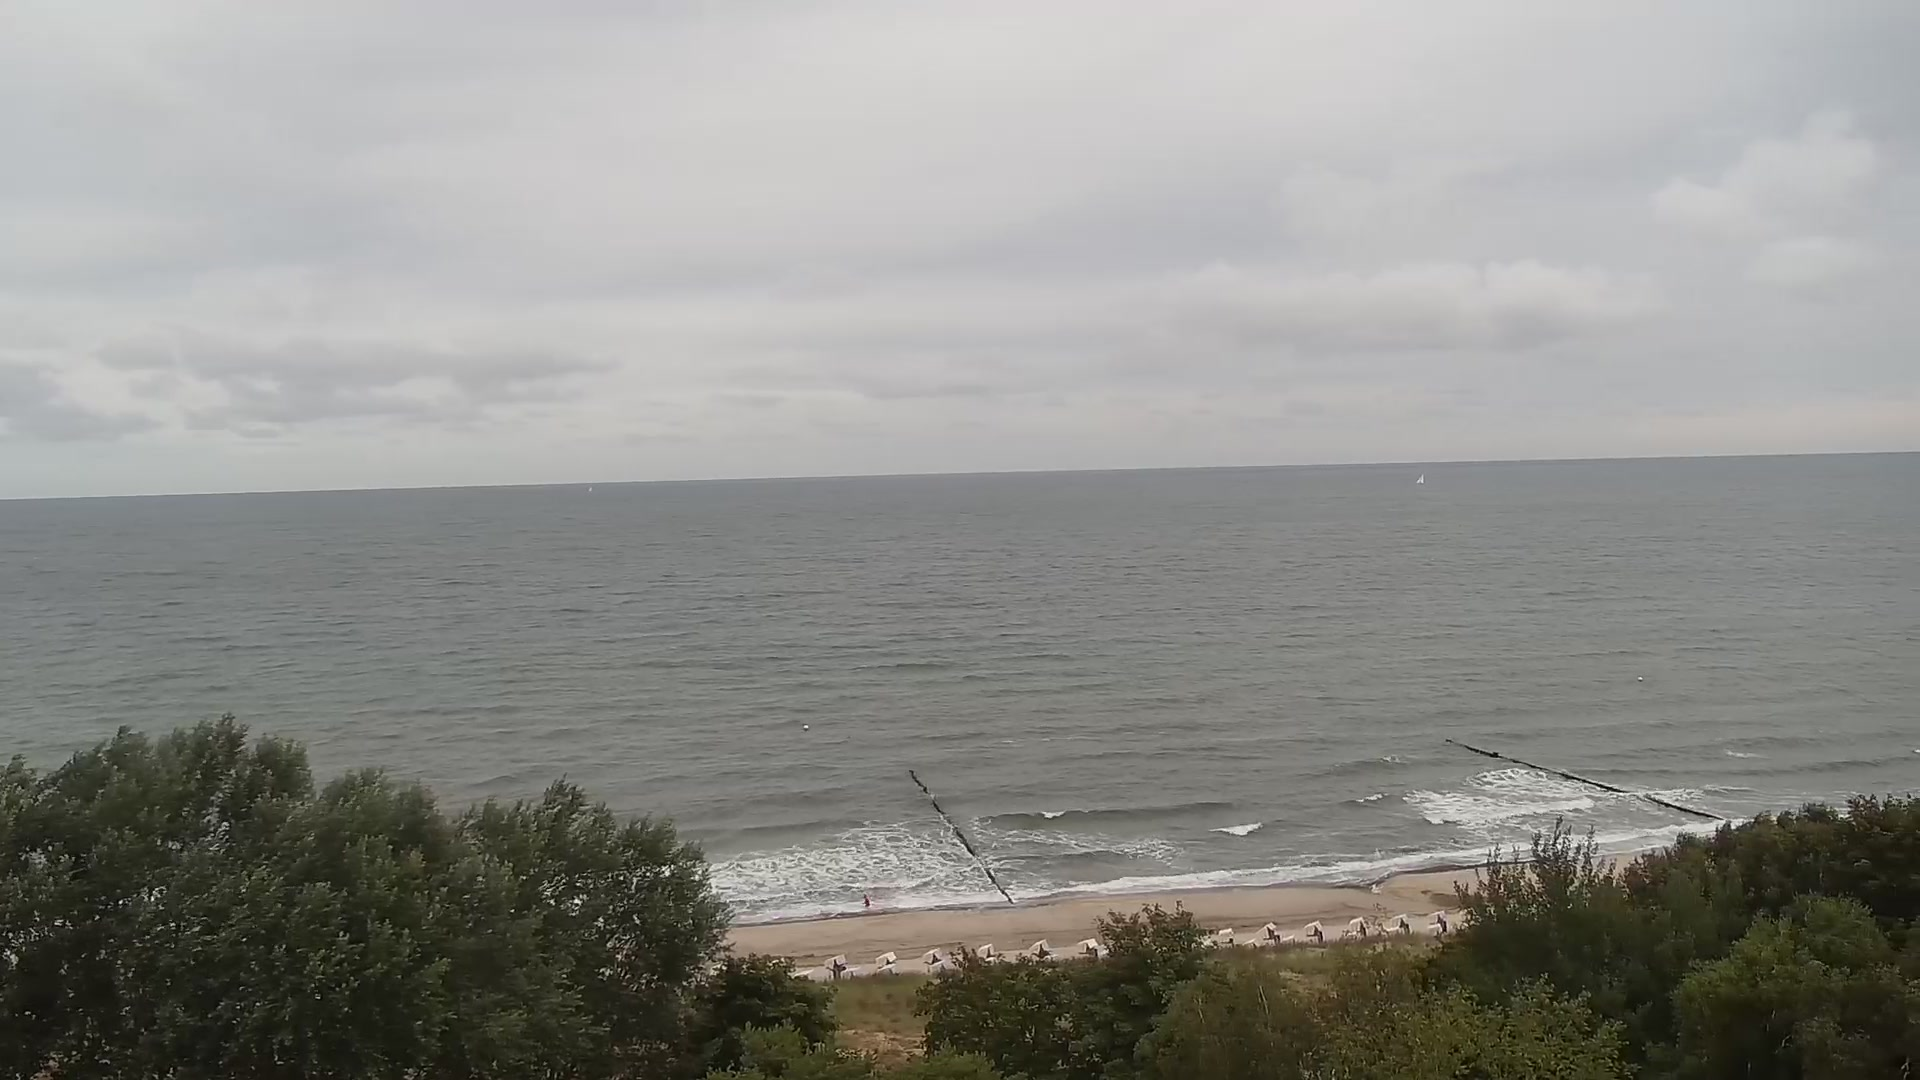human: (861, 893, 870, 908)
sea: (1415, 473, 1425, 485)
